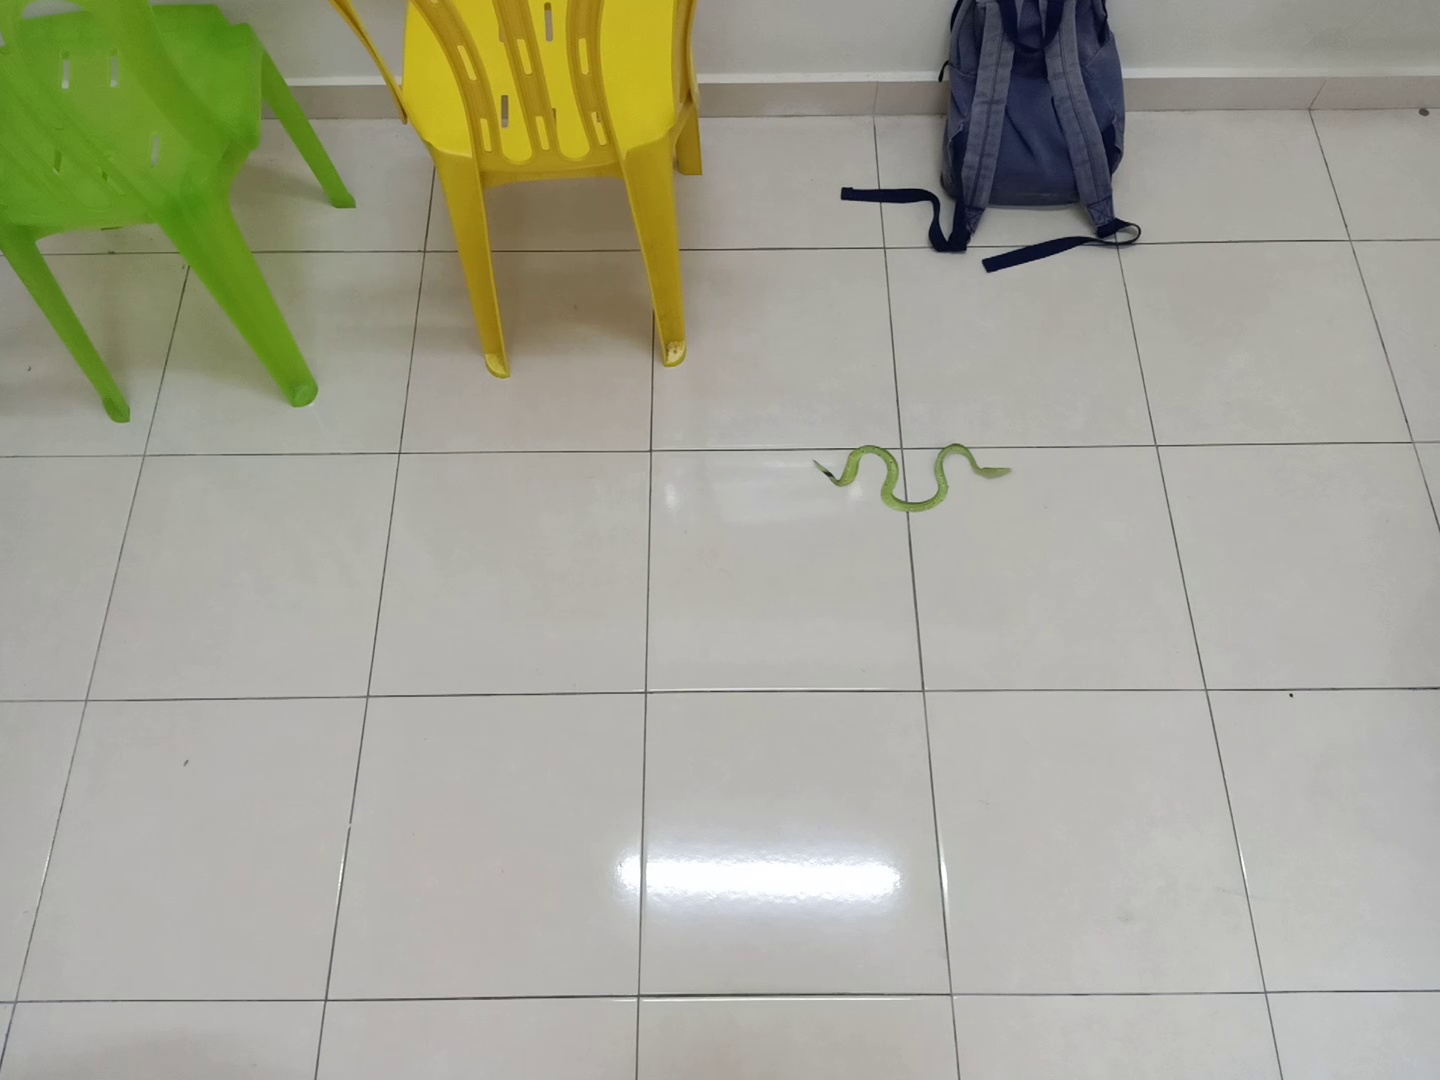snake: (806, 432, 1020, 521)
